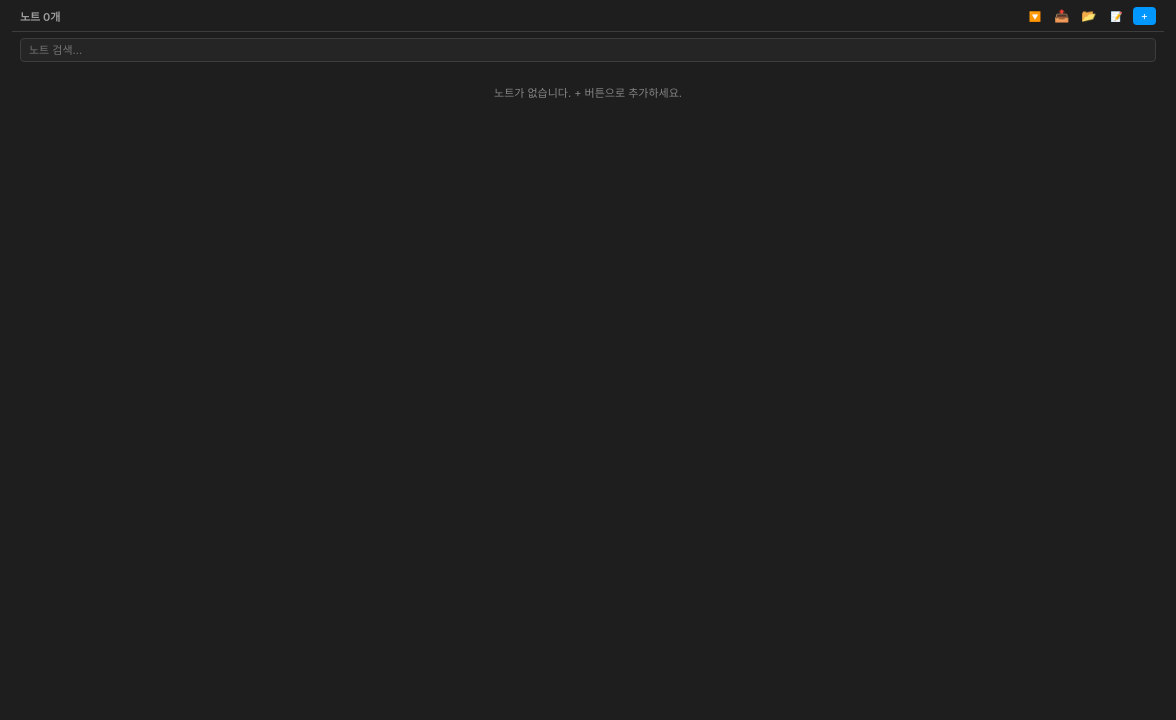
it: NotesPanel › + 버튼 클릭 시 에디터 뷰로 전환된다
The width and height of the screenshot is (1176, 720).
Click the button titled "새 노트".
click(1144, 16)  # box [1133,6,1156,24]
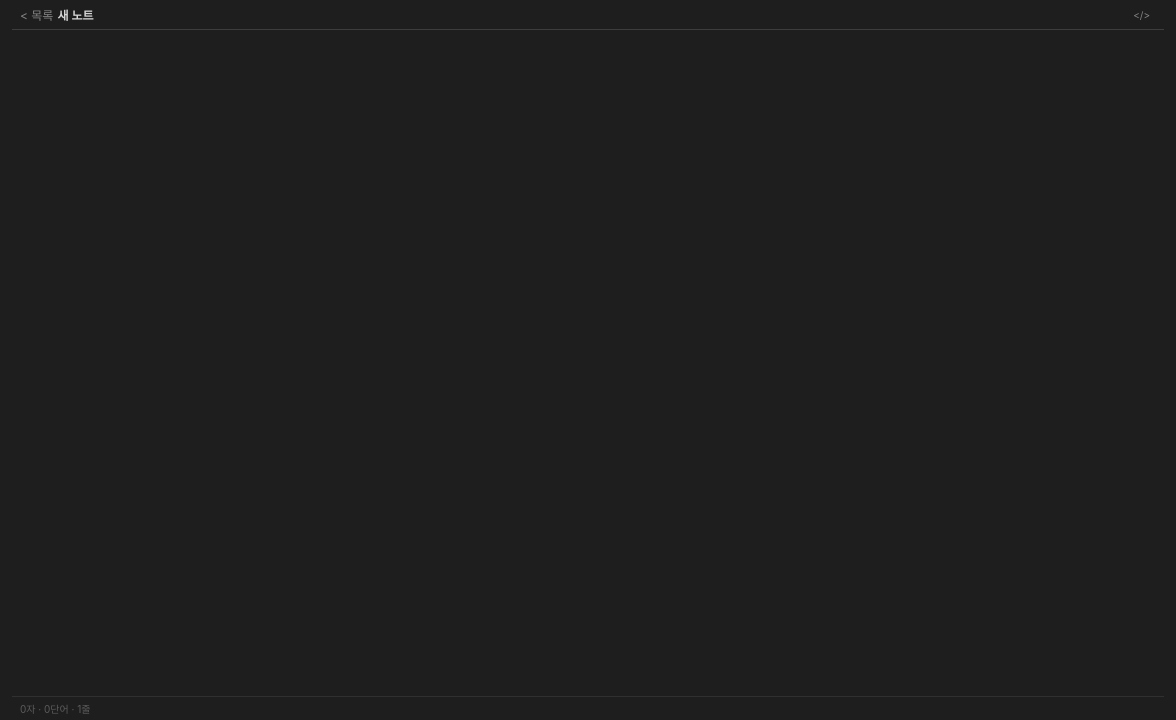
Result: the field showing "새 노트" is shown at [57,7,1123,22]
